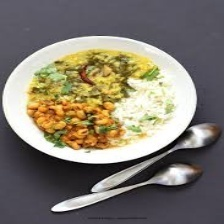dal: (26, 49, 158, 99)
